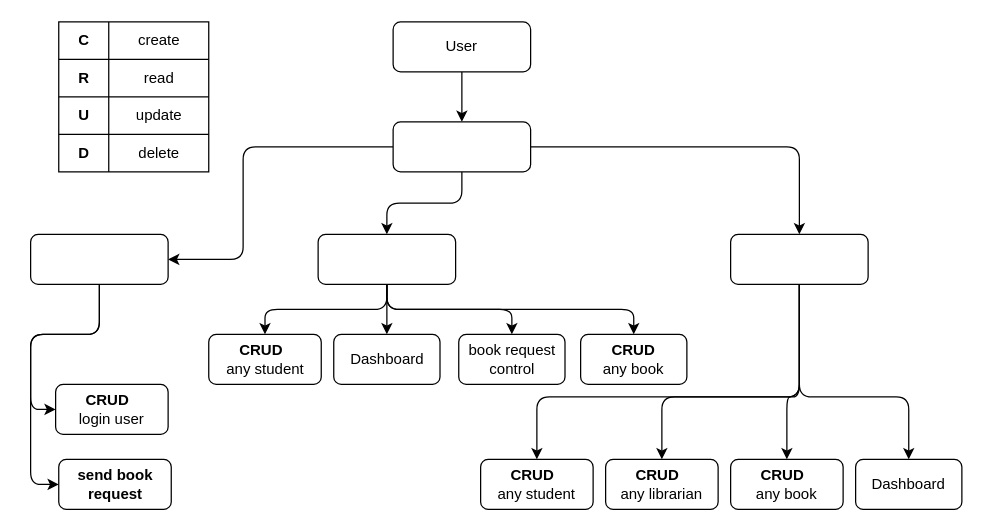
The diagram is 984 pixels wide and 531 high, and some of its shapes have lost their labels. Each missing label, with the centre of its shape:
"admin" belongs at pixel 798 258.
"librarian" belongs at pixel 386 258.
"Signin" belongs at pixel 461 146.
"student" belongs at pixel 98 258.
